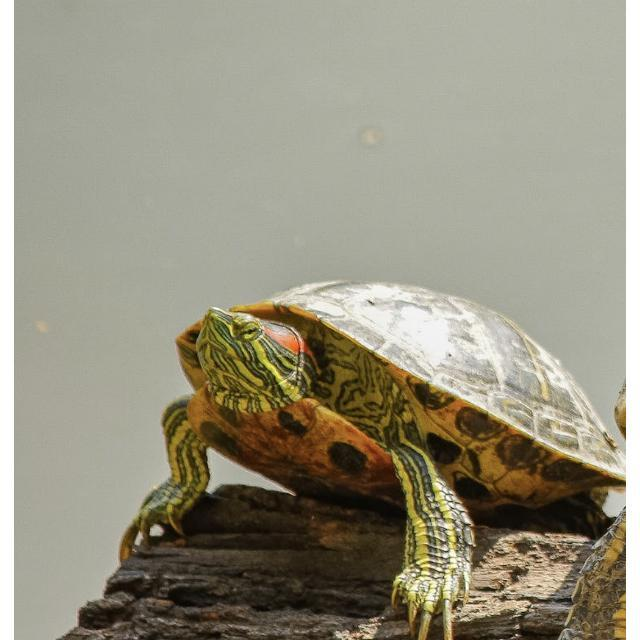turtle: (120, 279, 622, 636)
